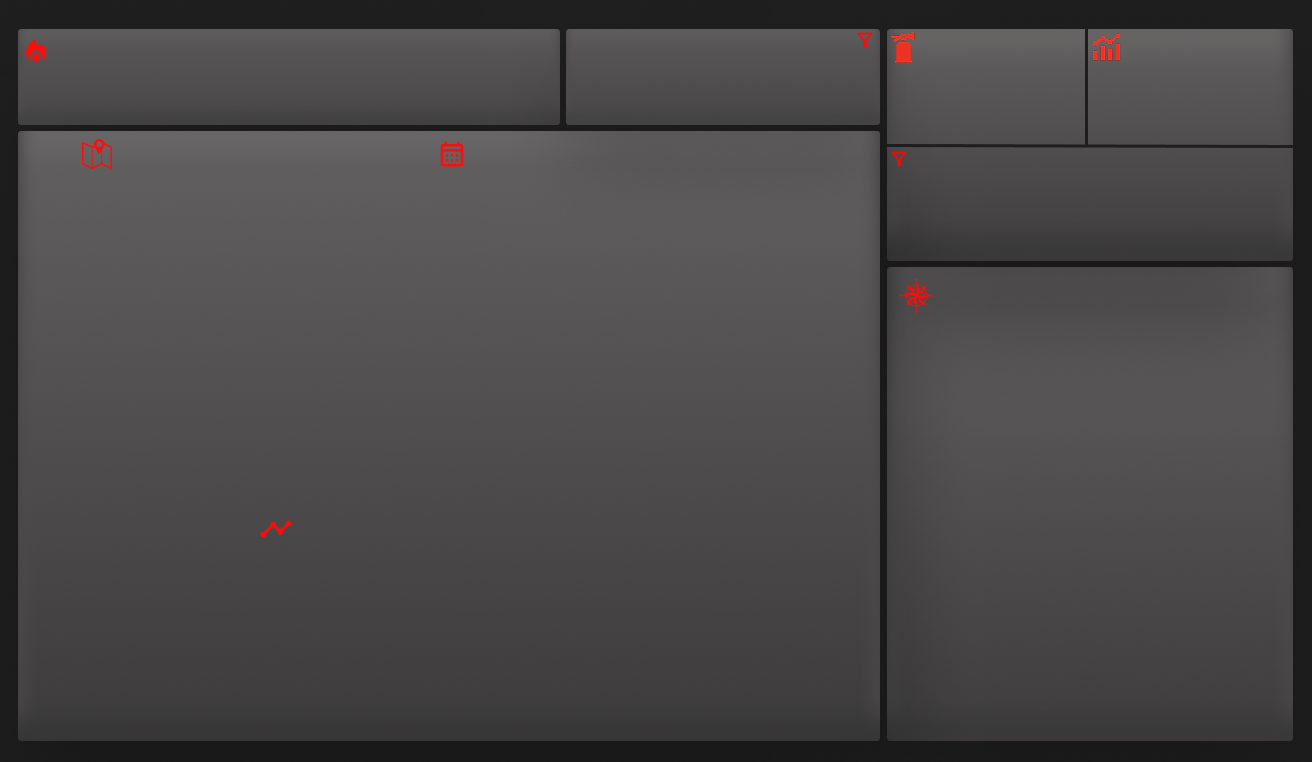

The dashboard page shown, as its layout file describes it:
{"tool":"powerbi","page":{"name":"Página 1","canvas":[1280,720],"ordinal":0},"visuals":[{"type":"card","title":"Total de Incêndios","fields":{"Values":["Medidas.Total de Incêdios"]},"box":[864.3,30.3,207,96.8],"z":0},{"type":"slicer","title":"Período","fields":{"Values":["amazon.year"]},"box":[553.5,7,302.3,101.2],"z":1000},{"type":"card","title":"Média de Incêndios","fields":{"Values":["Medidas.Média de Incendios"]},"box":[1078.6,30.3,187.6,96.8],"z":2000},{"type":"barChart","title":"Distribuição por Estados","fields":{"Category":["amazon.state"],"Y":["Sum(amazon.number)"]},"box":[7.3,116.2,412.8,354.7],"z":3000},{"type":"lineChart","title":"Evolução de Incêndios (1998-2017)","fields":{"Y":["Sum(amazon.number)"],"Category":["amazon.year"]},"box":[3.6,489,864.3,231.2],"z":4000},{"type":"slicer","title":"Região","fields":{"Values":["amazon.Regiao"]},"box":[1131.4,147.7,148.8,72.1],"z":5000},{"type":"hundredPercentStackedColumnChart","title":"Distribuição Mensal de Incêndios por Região","fields":{"Y":["Sum(amazon.number)"],"Series":["amazon.Regiao"],"Category":["amazon.month"]},"box":[432.1,116.2,435.8,354.7],"z":6000},{"type":"map","title":"Distribuição Geográfica de Incêndios","fields":{"Category":["amazon.state"],"Size":["Sum(amazon.number)"]},"box":[885.2,294.7,386,412.3],"z":7000},{"type":"slicer","title":"UF","fields":{"Values":["amazon.state"]},"box":[994.2,147.7,137.2,72.1],"z":8000},{"type":"textbox","title":"Monitoramento de Incêndios no Brasil (1998 - 2017)","box":[12.8,3.5,537.2,104.7],"z":9000},{"type":"textbox","box":[929.7,253,341.4,49.6],"z":10000},{"type":"textbox","title":"Total de Incêndios","box":[877.6,10.9,175.5,37.5],"z":11000},{"type":"textbox","title":"Média de Incêdios","box":[996.2,10.9,269.9,37.5],"z":12000},{"type":"slicer","title":"Mês","fields":{"Values":["amazon.month"]},"box":[875.6,147.7,118.6,72.1],"z":12001}]}

Visuals, with their boxes on the page's 1280x720 design canvas (x1, y1, x2, y2). These are canvas units, not pixel positions in the 1312x762 screenshot, which may show the page scaled, cropped or inside an application window:
"Total de Incêndios" card: box(864, 30, 1071, 127)
"Período" slicer: box(554, 7, 856, 108)
"Média de Incêndios" card: box(1079, 30, 1266, 127)
"Distribuição por Estados" barChart: box(7, 116, 420, 471)
"Evolução de Incêndios (1998-2017)" lineChart: box(4, 489, 868, 720)
"Região" slicer: box(1131, 148, 1280, 220)
"Distribuição Mensal de Incêndios por Região" hundredPercentStackedColumnChart: box(432, 116, 868, 471)
"Distribuição Geográfica de Incêndios" map: box(885, 295, 1271, 707)
"UF" slicer: box(994, 148, 1131, 220)
"Monitoramento de Incêndios no Brasil (1998 - 2017)" textbox: box(13, 4, 550, 108)
textbox: box(930, 253, 1271, 303)
"Total de Incêndios" textbox: box(878, 11, 1053, 48)
"Média de Incêdios" textbox: box(996, 11, 1266, 48)
"Mês" slicer: box(876, 148, 994, 220)
